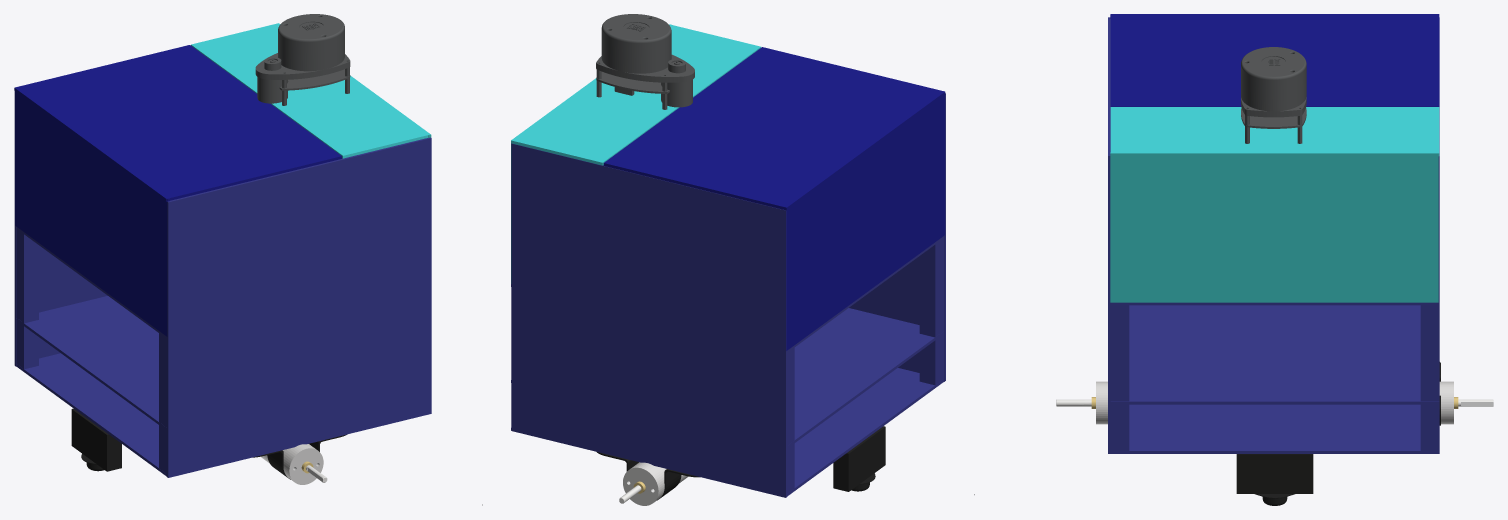
The picture shows the model from 3 angles, left to right: view 1: azimuth 30°, elevation 25°; view 2: azimuth 150°, elevation 25°; view 3: azimuth 270°, elevation 25°; orthographic projection. The views are drawn at different scales.
Visible parts, largest first — view 1: base; view 2: base; view 3: base.
Part boxes in pixels (bbox=[...]): base: bbox=[14, 14, 482, 505]; base: bbox=[511, 14, 945, 505]; base: bbox=[974, 14, 1493, 505].
Bounding box in the file's own units: 0.3177 × 0.4234 × 0.4744.
